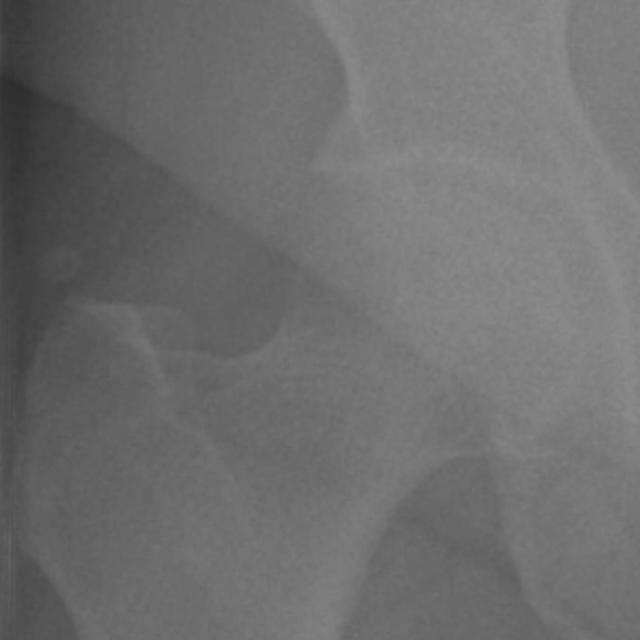Fitted_femural_head: (289, 181, 432, 289)
